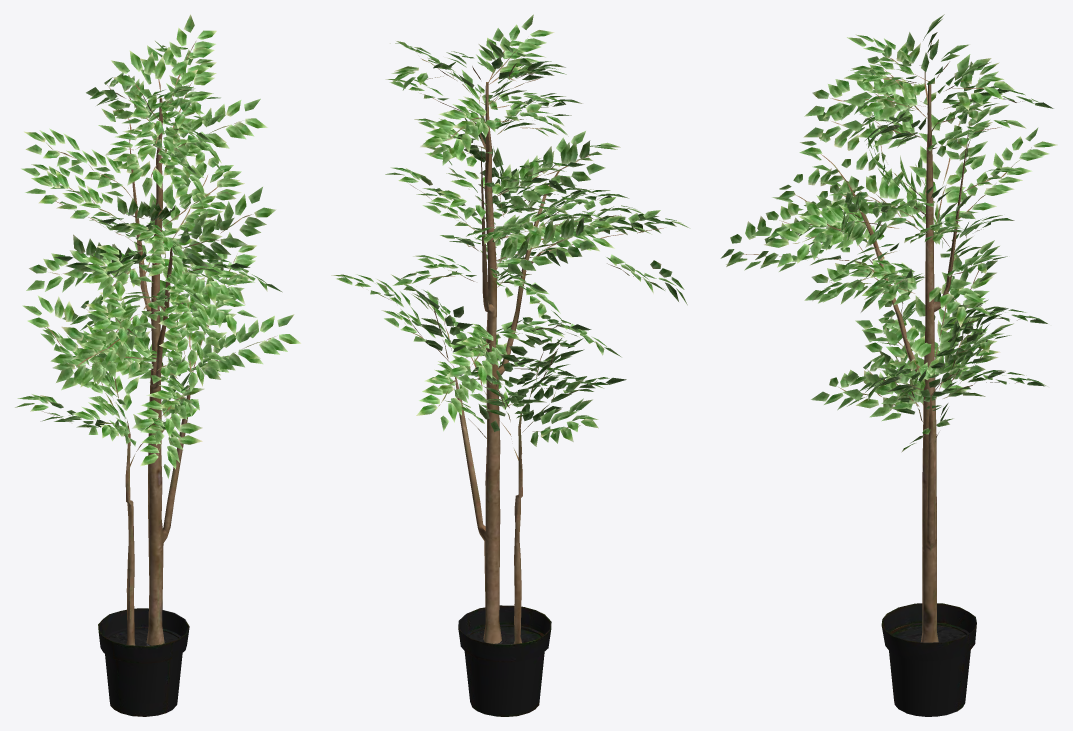
3 views of the same model, side by side, from view 1: azimuth 30°, elevation 25°; view 2: azimuth 150°, elevation 25°; view 3: azimuth 270°, elevation 25° (orthographic). The views are drawn at different scales.
Visible parts, largest first — view 1: 70491575_artificial_potted_plant; view 2: 70491575_artificial_potted_plant; view 3: 70491575_artificial_potted_plant.
Boxes of the visible parts, x1,y1,x2,y2 form: 70491575_artificial_potted_plant: (15,14,300,716); 70491575_artificial_potted_plant: (331,14,690,716); 70491575_artificial_potted_plant: (720,14,1057,716).
Bounding box in the file's own units: 0.7311 × 1.64 × 0.7391.
1 material, 1 textured.
